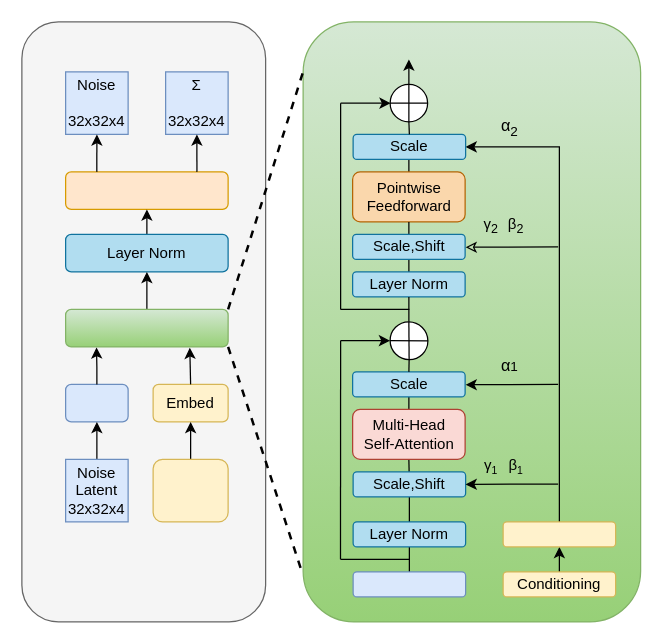
The diagram is 663 pixels wide and 644 high, and some of its shapes have lost their labels. The centre of each missing label's shape, as x and y in pixels:
"DiT Block" belongs at (146,327).
"Input Tokens" belongs at (409,584).
"Linear and Reshape" belongs at (146,190).
"MLP" belongs at (559,534).
"Patchify" belongs at (96,402).
"Timestep t" belongs at (190,490).
